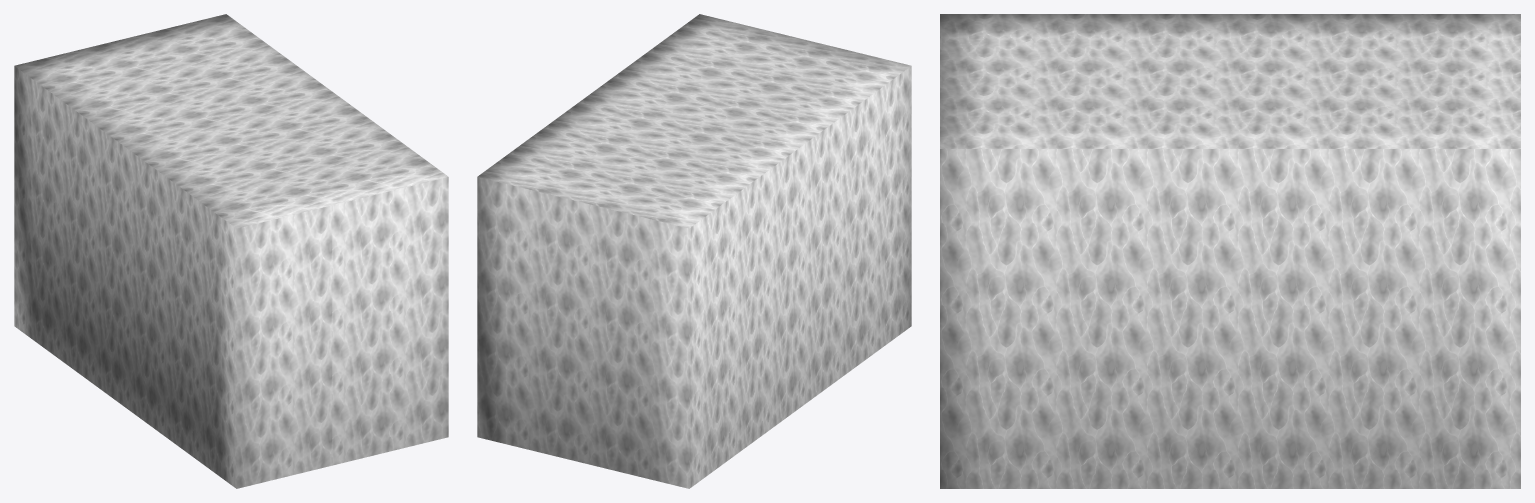
File: QuicksandLvl1.fbx
3 renders of one model, left to right at view 1: azimuth 30°, elevation 25°; view 2: azimuth 150°, elevation 25°; view 3: azimuth 270°, elevation 25°, orthographic. The views are drawn at different scales.
Visible parts, largest first — view 1: QuicksandLvl1:Quicksand; view 2: QuicksandLvl1:Quicksand; view 3: QuicksandLvl1:Quicksand.
Boxes of the visible parts, left/top/right/bottom form: QuicksandLvl1:Quicksand: left=14, top=14, right=448, bottom=488; QuicksandLvl1:Quicksand: left=477, top=14, right=911, bottom=488; QuicksandLvl1:Quicksand: left=940, top=14, right=1520, bottom=488.
Bounding box in the file's own units: 11.73 × 13.75 × 21.29.
